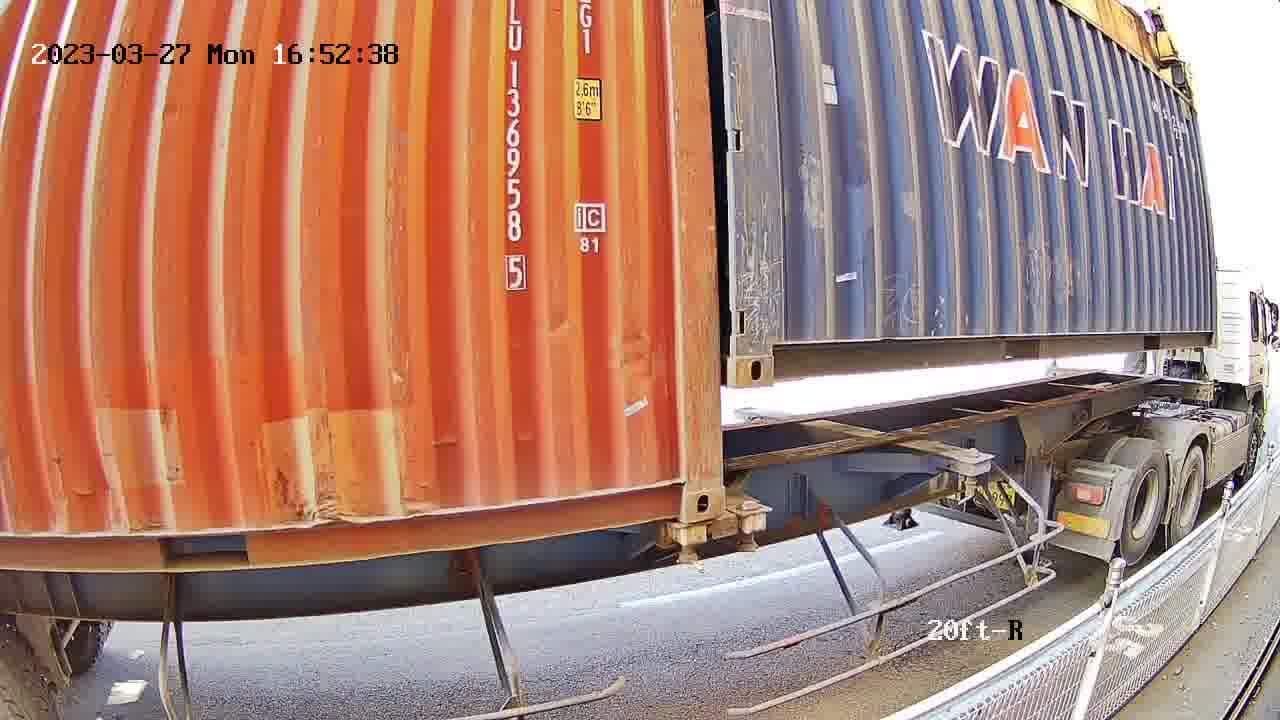Cone: (666, 523, 707, 575), (731, 503, 766, 553)
Hole_L: (735, 319, 814, 388)
Hole_R: (637, 452, 724, 524)
Tire: (1121, 444, 1168, 564), (1175, 449, 1206, 539)
